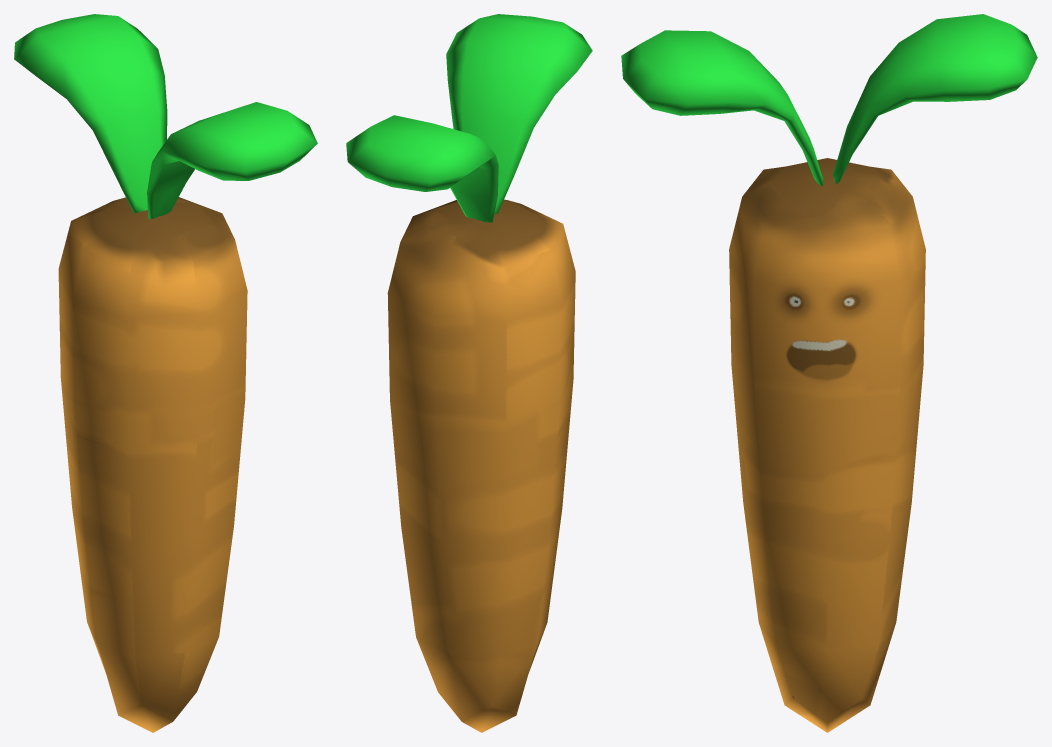
Rendered from zanahoria.glb.
3 renders of one model, left to right at view 1: azimuth 30°, elevation 25°; view 2: azimuth 150°, elevation 25°; view 3: azimuth 270°, elevation 25°, orthographic. The views are drawn at different scales.
Visible parts, largest first — view 1: zanahoria, hojazanahoria, hojazanahoria.001; view 2: zanahoria, hojazanahoria.001, hojazanahoria; view 3: zanahoria, hojazanahoria, hojazanahoria.001.
Boxes of the visible parts, x1,y1,x2,y2 form: zanahoria: [58, 197, 247, 732]; hojazanahoria: [14, 14, 167, 213]; hojazanahoria.001: [147, 102, 317, 219]; zanahoria: [387, 199, 575, 732]; hojazanahoria.001: [446, 14, 592, 213]; hojazanahoria: [346, 115, 498, 222]; zanahoria: [729, 158, 925, 732]; hojazanahoria: [832, 14, 1037, 183]; hojazanahoria.001: [621, 30, 823, 186].
Bounding box in the file's own units: 0.3314 × 1.22 × 0.6565.
Materials: 2 (1 with a texture image).
